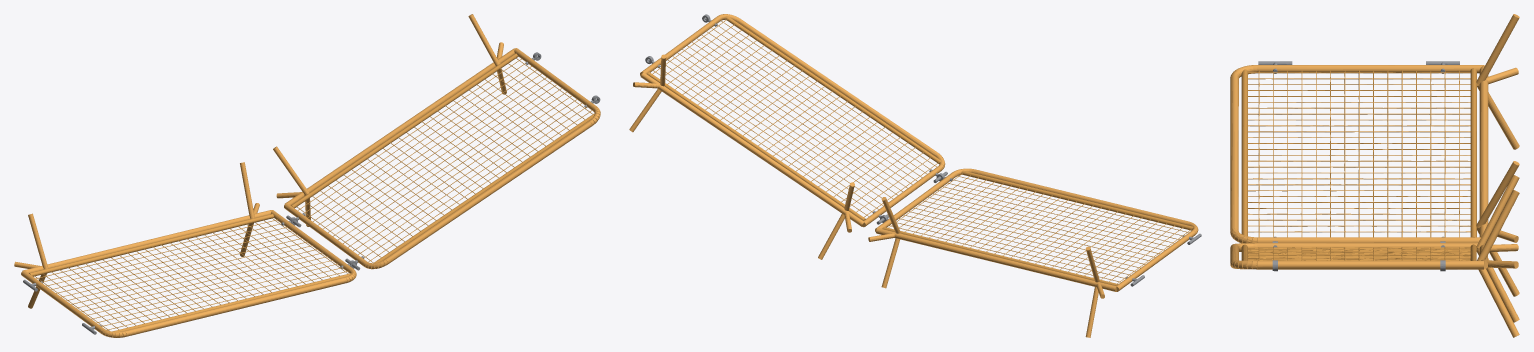
File: size-panel_len_scale-0.9.glb
The picture shows the model from 3 angles, left to right: view 1: azimuth 30°, elevation 25°; view 2: azimuth 150°, elevation 25°; view 3: azimuth 270°, elevation 25°; orthographic projection. The views are drawn at different scales.
Visible parts, largest first — view 1: panel_0__infill, panel_0__frame, panel_0__eye_top; view 2: panel_0__infill, panel_0__frame, panel_0__eye_top; view 3: panel_0__infill, panel_0__frame, panel_0__eye_top.
Part boxes in pixels (x1,y1,x2,y2): panel_0__infill: (29, 53, 594, 331); panel_0__frame: (14, 14, 600, 337); panel_0__eye_top: (23, 52, 600, 334); panel_0__infill: (647, 16, 1193, 285); panel_0__frame: (629, 14, 1198, 337); panel_0__eye_top: (645, 14, 1201, 286); panel_0__infill: (1241, 68, 1476, 260); panel_0__frame: (1230, 14, 1519, 337); panel_0__eye_top: (1258, 61, 1459, 271).
Bounding box in the file's own units: 3.71 × 1.29 × 1.28.
